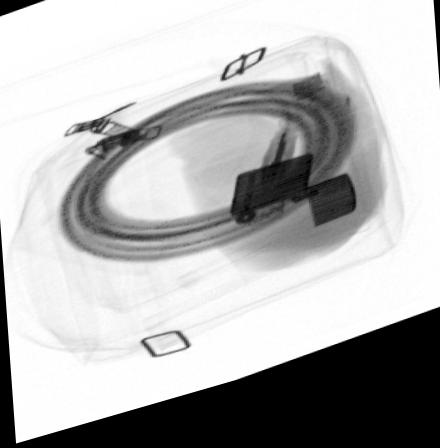Lighter: (227, 169, 358, 244)
